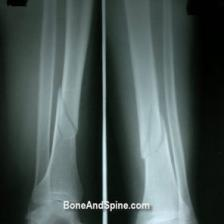comminuted-fracture: (0, 0, 204, 224)
